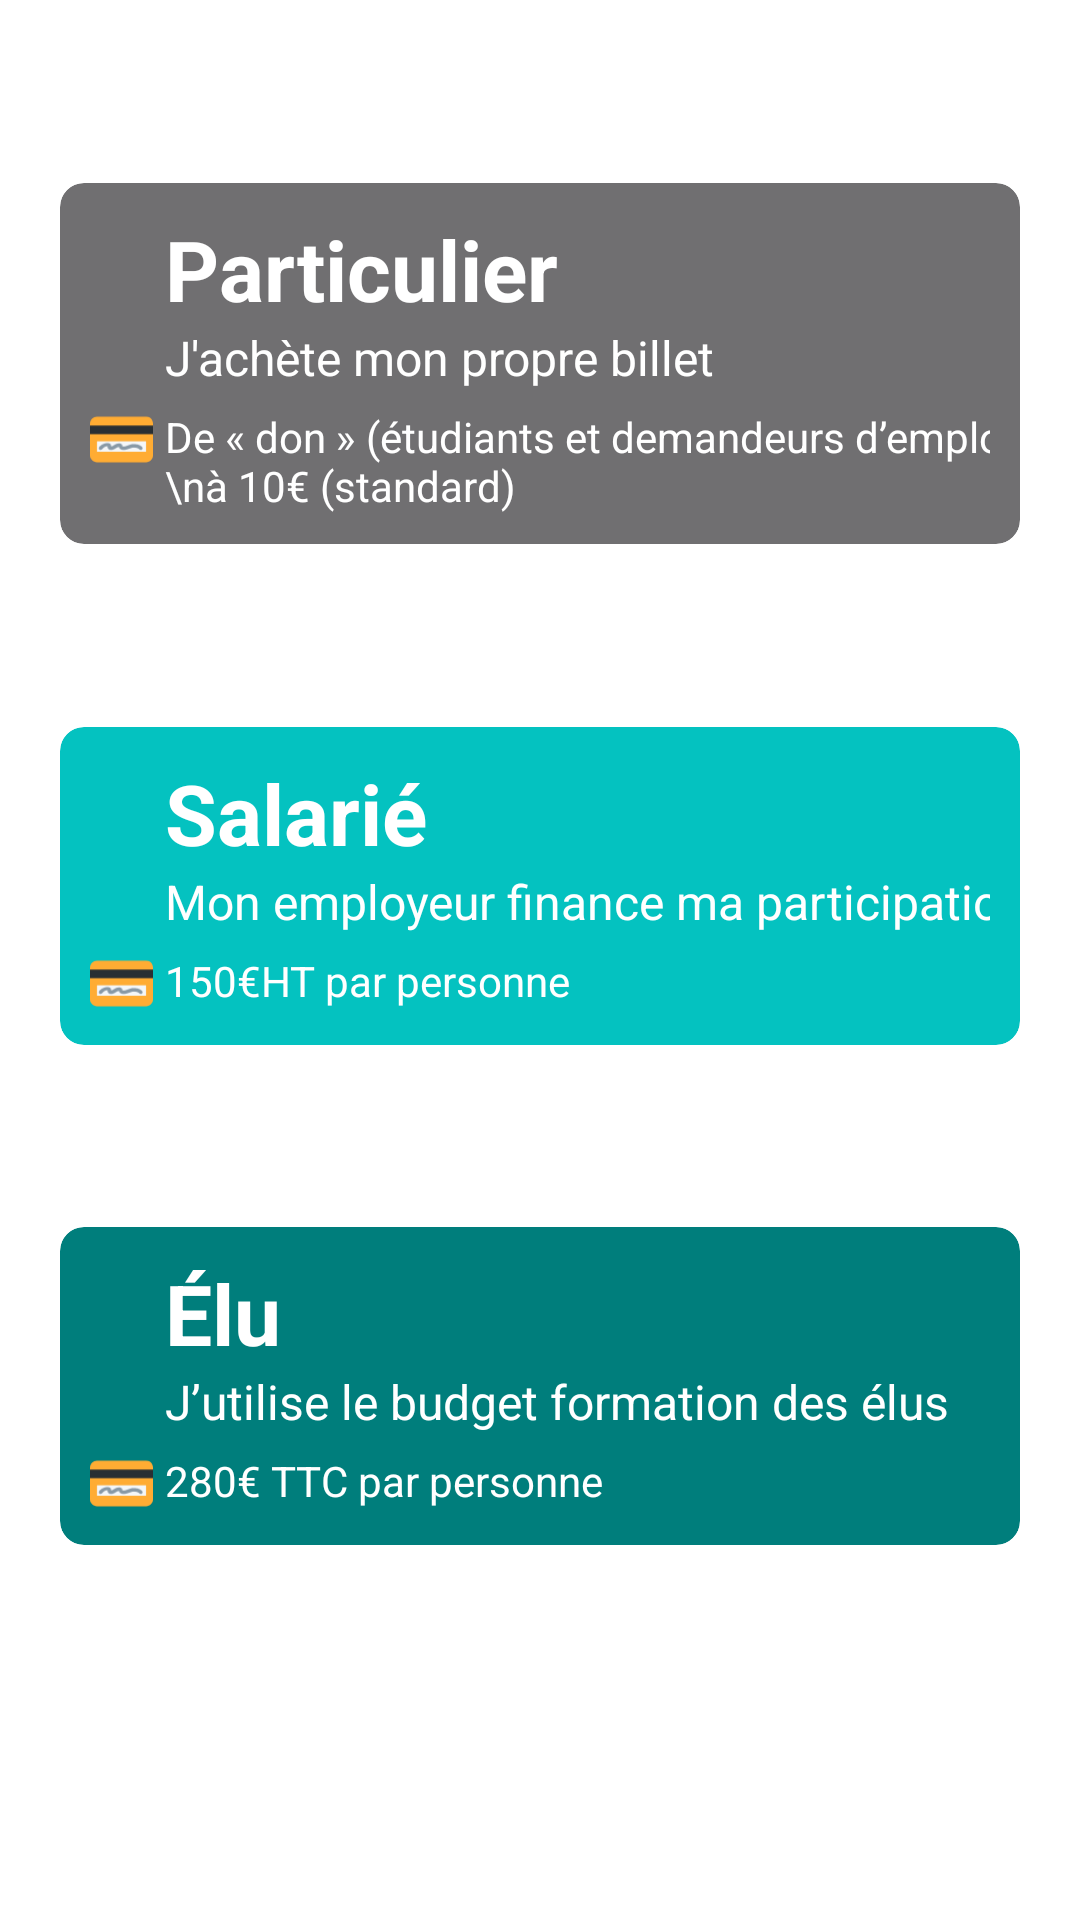

Point at icon controls on the screen. Image size 1080w x 1920h, points as (x=x, y=y).
credit card: (x=121, y=439), (x=121, y=983), (x=121, y=1483)
